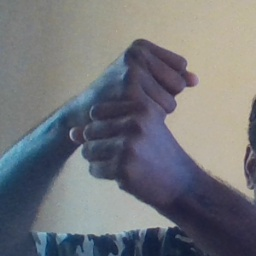G: (71, 34, 199, 178)
